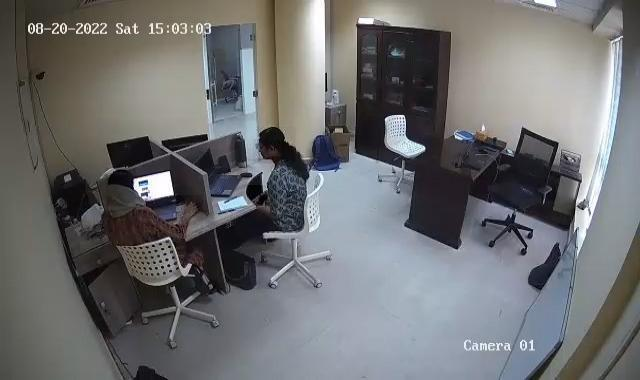no_apron: (177, 195, 204, 233), (248, 186, 267, 205)
no_gloves: (256, 128, 296, 162), (106, 168, 136, 206)
no_hairnet: (254, 140, 286, 164)
